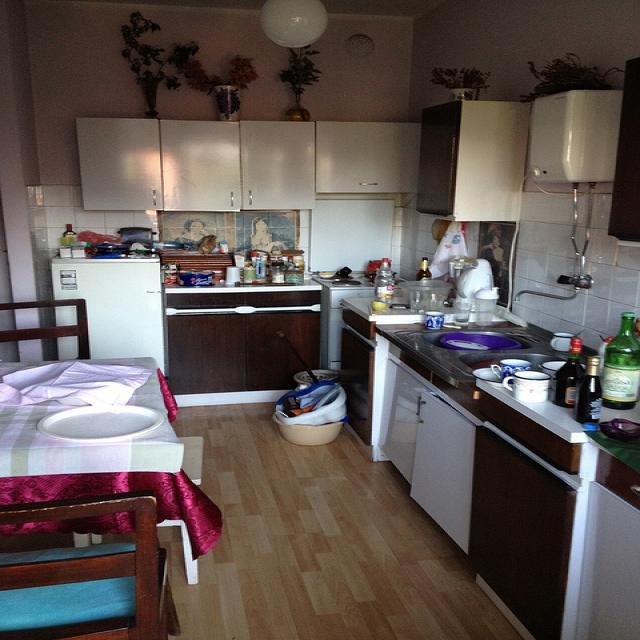chair: (0, 489, 183, 640), (0, 299, 90, 360)
dining table: (0, 355, 224, 585)
